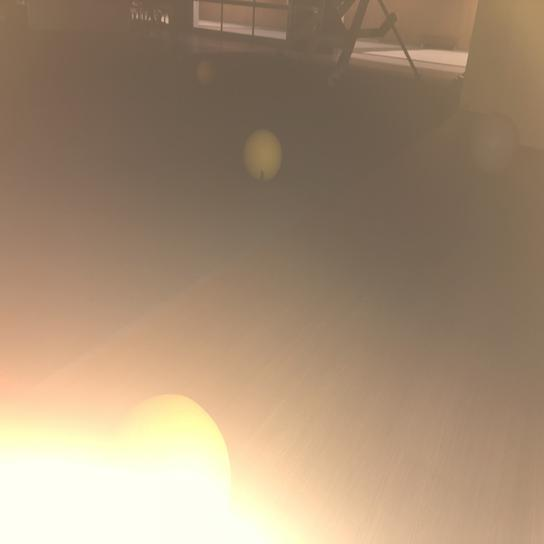ball: (239, 128, 285, 187)
